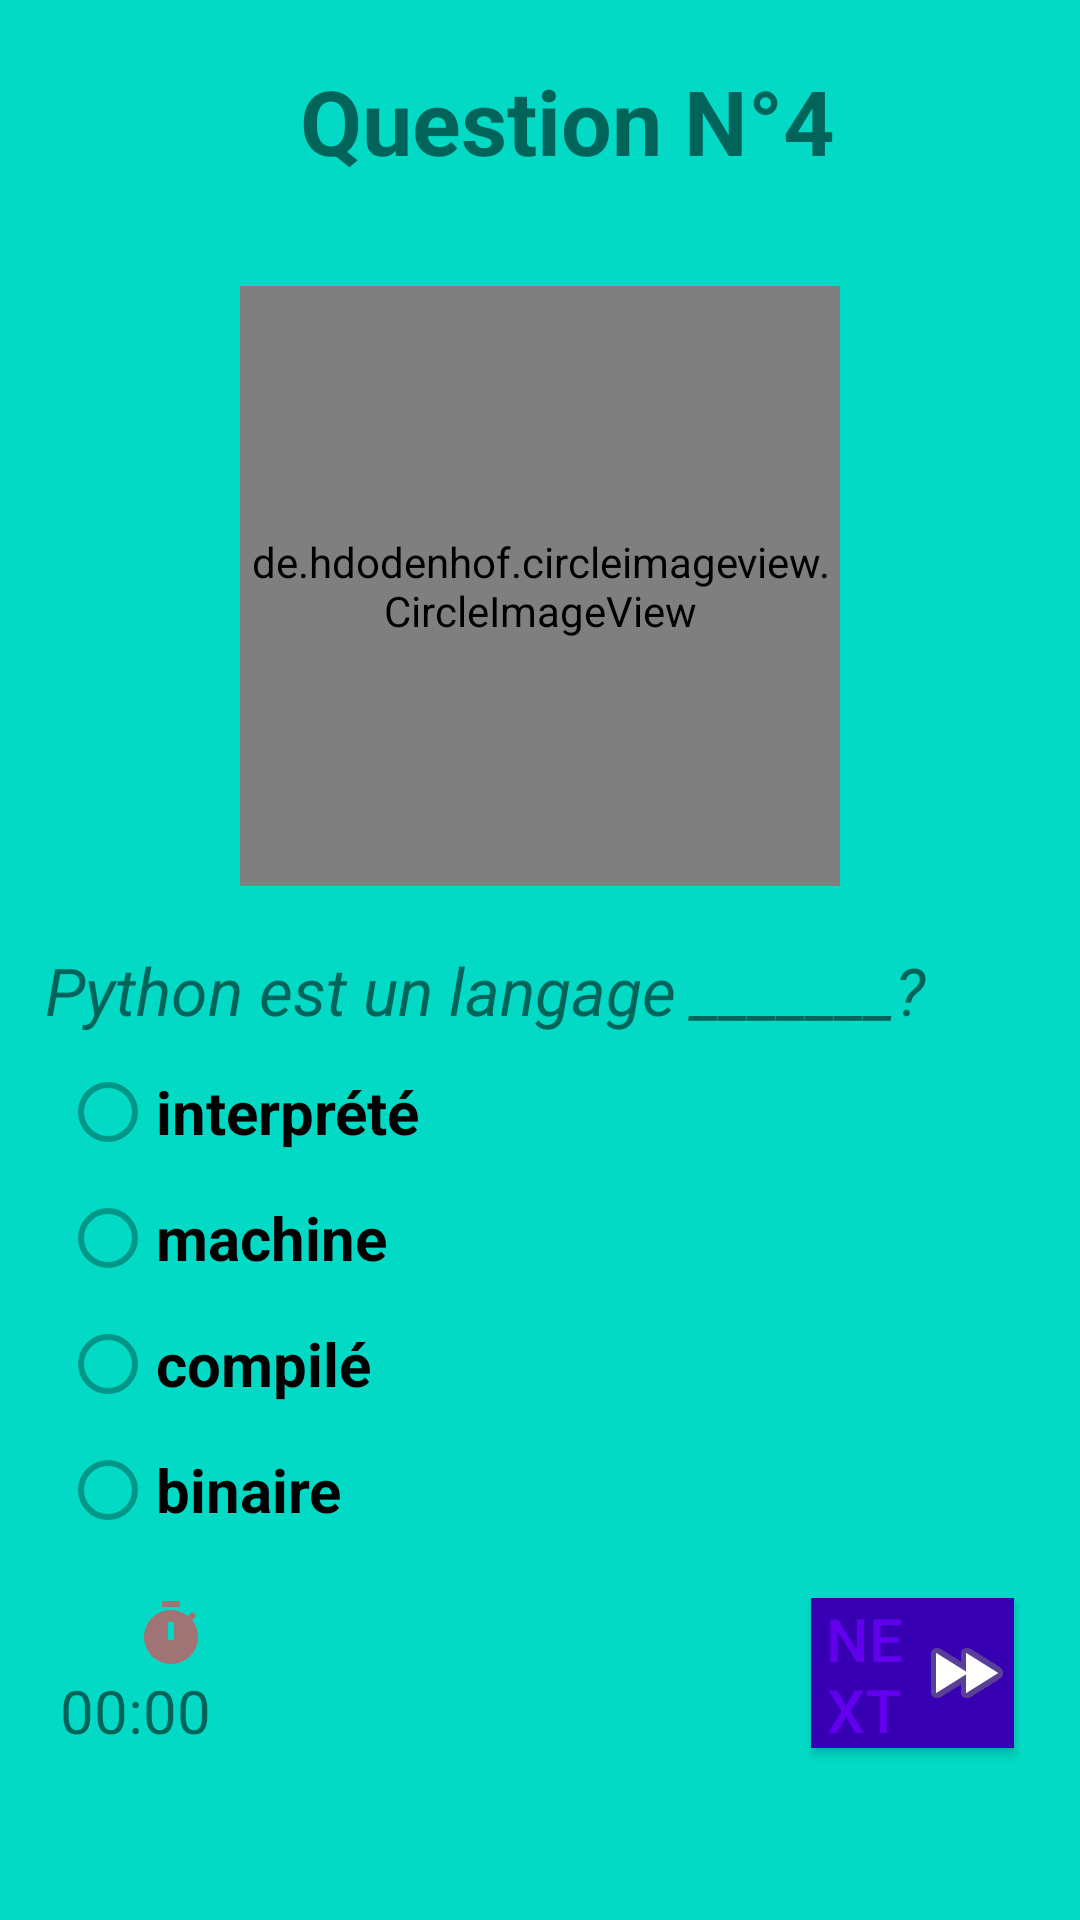

Icons on this 1080*1920 Android screen, each with its box as (x1, y1, x2, y2):
timer: (144, 1601, 198, 1664)
